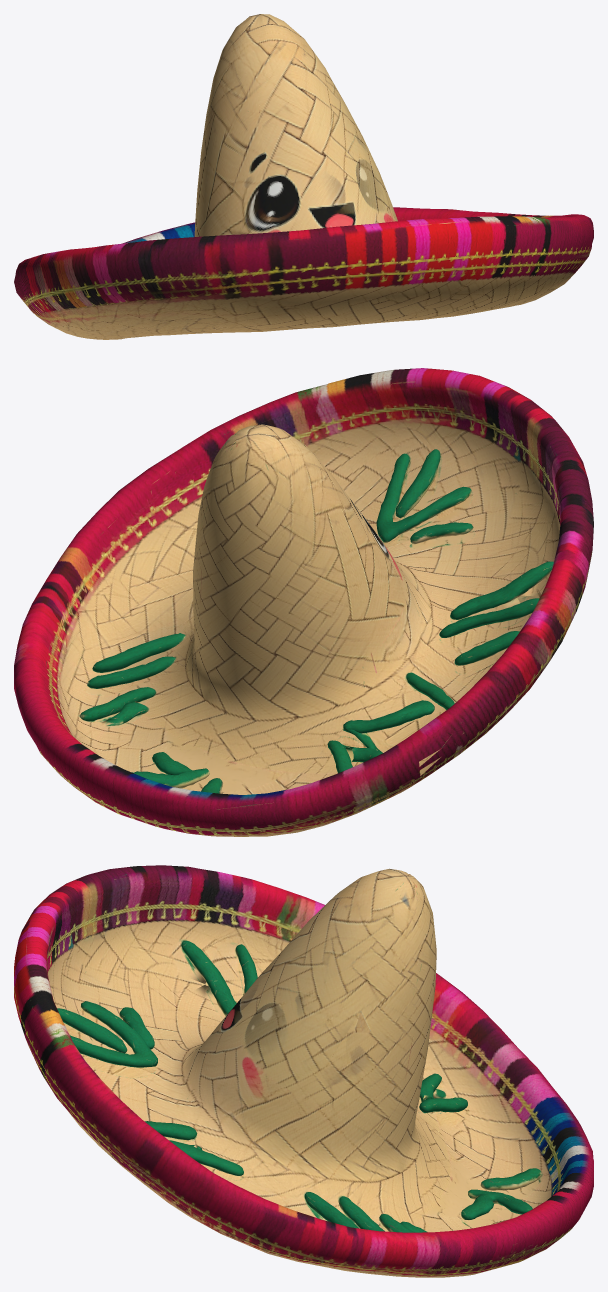
File: hut.glb
3 renders of one model, top to bottom at view 1: azimuth 30°, elevation 25°; view 2: azimuth 150°, elevation 25°; view 3: azimuth 270°, elevation 25°, orthographic. The views are drawn at different scales.
Bounding box in the file's own units: 1 × 0.6562 × 0.998.
1 material, 1 textured.
